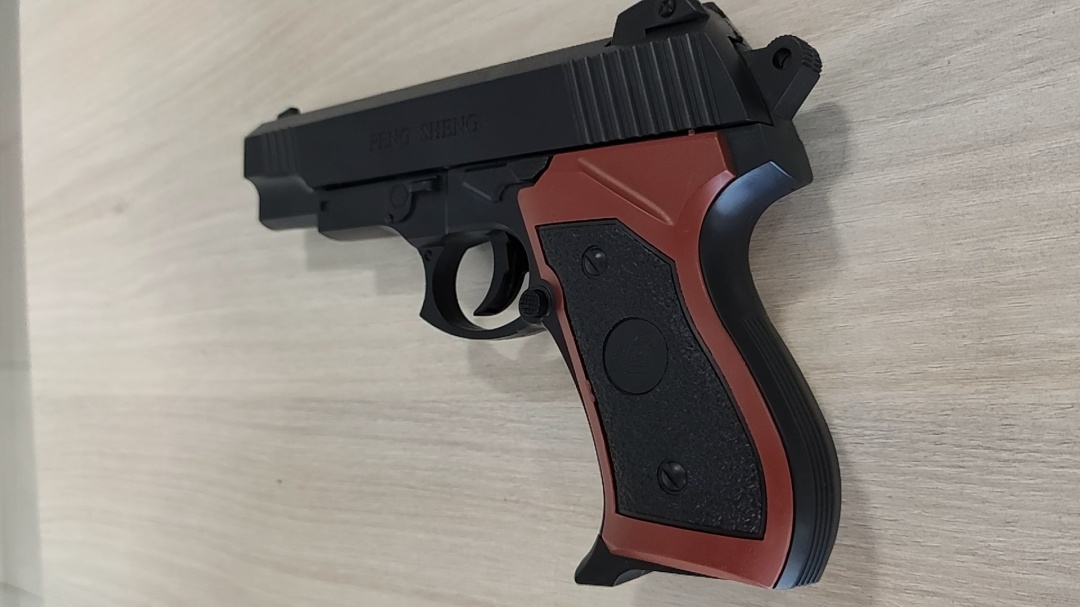gun: (477, 194, 565, 274)
